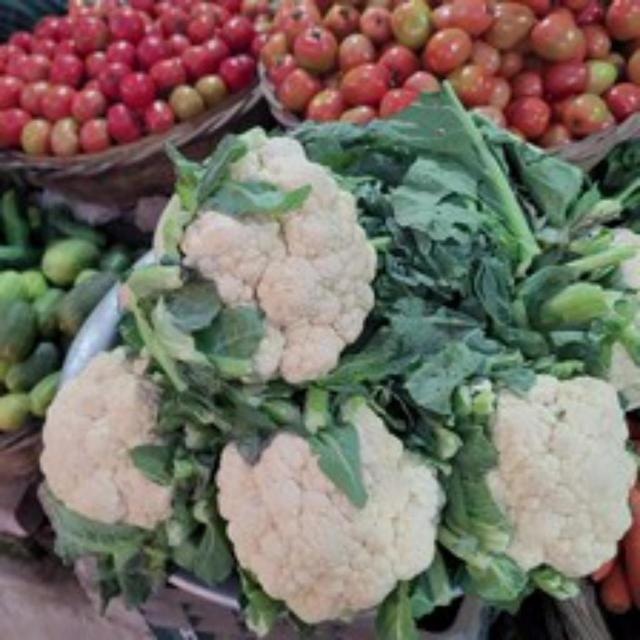cauliflower: (195, 113, 422, 400), (210, 408, 460, 640), (480, 340, 637, 611)
